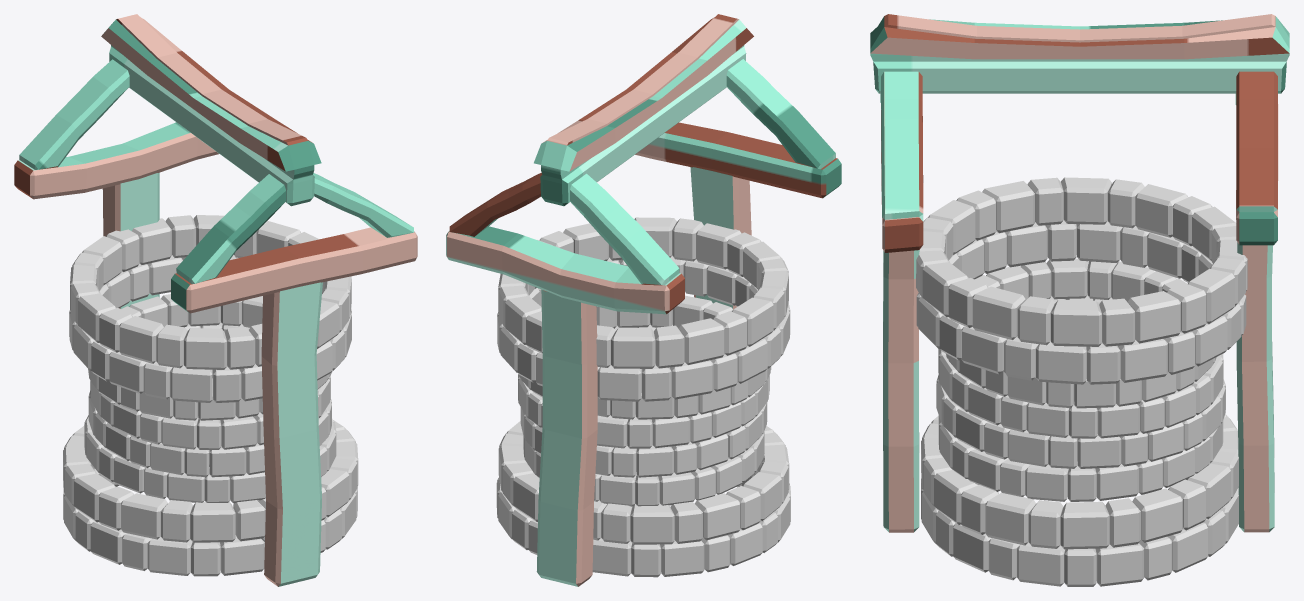
File: well.fbx
3 renders of one model, left to right at view 1: azimuth 30°, elevation 25°; view 2: azimuth 150°, elevation 25°; view 3: azimuth 270°, elevation 25°, orthographic. The views are drawn at different scales.
Parts seen in each view (by area): view 1: Cube.001, Cube.009, Cube.003, Cube.008, Cube.002, Cube.006, Cube.004, Cube.007, Cube.005; view 2: Cube.001, Cube.009, Cube.003, Cube.008, Cube.002, Cube.006, Cube.007, Cube.005, Cube.004; view 3: Cube.001, Cube.009, Cube.008, Cube.003, Cube.002, Cube.006, Cube.007, Cube.004, Cube.005.
Part boxes in pixels (<box>): Cube.001: <box>14,14,417,586</box>; Cube.009: <box>70,215,351,369</box>; Cube.003: <box>63,420,358,542</box>; Cube.008: <box>69,255,351,402</box>; Cube.002: <box>63,450,357,576</box>; Cube.006: <box>88,294,332,420</box>; Cube.004: <box>84,379,336,503</box>; Cube.007: <box>90,321,330,449</box>; Cube.005: <box>88,370,331,477</box>; Cube.001: <box>446,14,841,586</box>; Cube.009: <box>498,217,788,368</box>; Cube.003: <box>498,421,789,544</box>; Cube.008: <box>497,255,790,401</box>; Cube.002: <box>496,470,790,577</box>; Cube.006: <box>519,295,771,419</box>; Cube.007: <box>518,323,769,448</box>; Cube.005: <box>520,369,767,477</box>; Cube.004: <box>523,431,764,506</box>; Cube.001: <box>870,14,1289,532</box>; Cube.009: <box>916,177,1247,346</box>; Cube.008: <box>916,220,1246,384</box>; Cube.003: <box>921,414,1238,549</box>; Cube.002: <box>921,438,1238,586</box>; Cube.006: <box>946,258,1216,408</box>; Cube.007: <box>938,293,1223,438</box>; Cube.004: <box>938,415,1223,501</box>; Cube.005: <box>936,375,1225,468</box>.
Size of the model in its own units: 1882 by 3089 by 2336.
9 materials, 1 textured.
